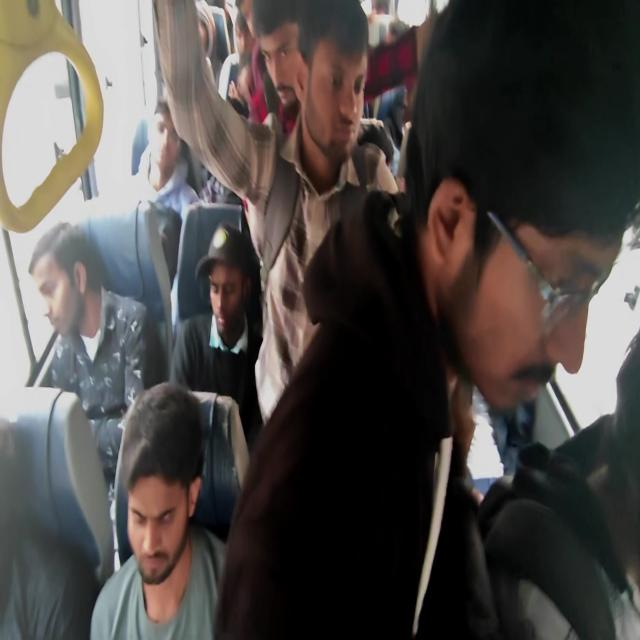person: (431, 94, 640, 405), (124, 409, 202, 587), (255, 7, 328, 135), (40, 240, 118, 352), (201, 229, 250, 353), (308, 41, 354, 157), (143, 102, 188, 198), (234, 17, 264, 80), (384, 15, 412, 74), (225, 80, 251, 123), (184, 17, 211, 48)
